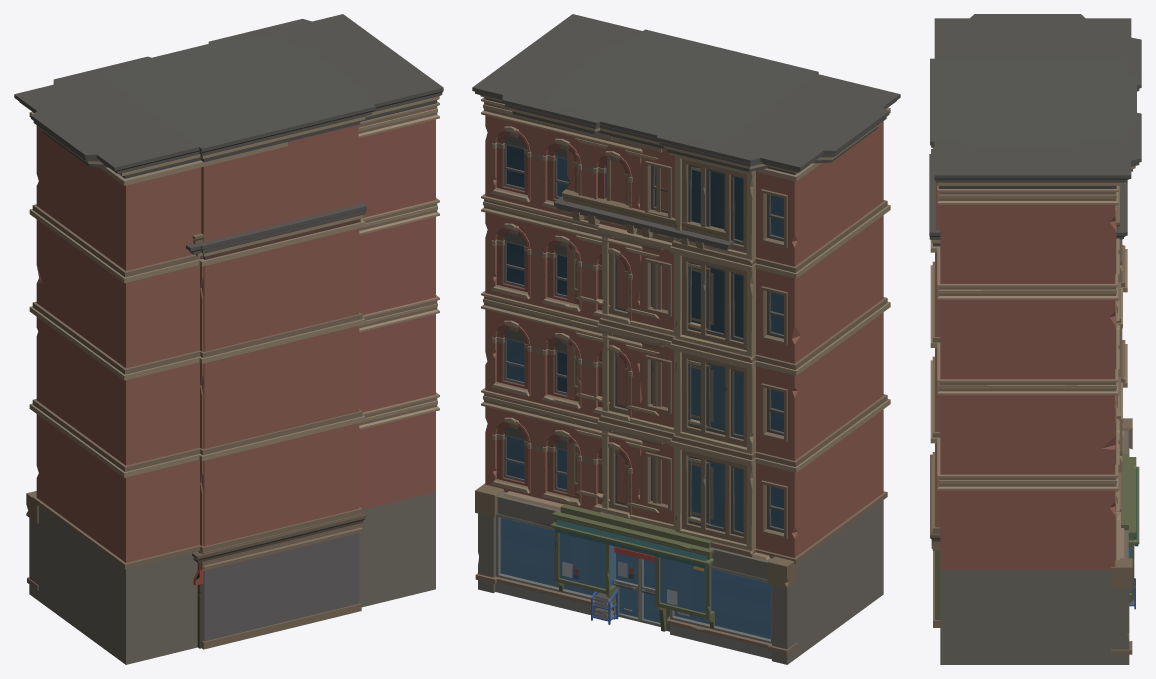
File: buildings.glb
3 views of the same model, side by side, from view 1: azimuth 30°, elevation 25°; view 2: azimuth 150°, elevation 25°; view 3: azimuth 270°, elevation 25° (orthographic). The views are drawn at different scales.
Parts seen in each view (by area): view 1: building_03, building_01, building_02, building_5, building_04; view 2: building_03, building_02, building_04, building_5, building_01; view 3: building_03, building_02, building_04, building_5, building_01.
Boxes of the visible parts, <box> form: building_03: <box>14,14,443,664</box>; building_01: <box>201,210,365,649</box>; building_02: <box>101,33,375,641</box>; building_5: <box>186,202,365,648</box>; building_04: <box>201,202,366,250</box>; building_03: <box>472,14,900,664</box>; building_02: <box>545,29,818,611</box>; building_04: <box>550,189,720,631</box>; building_5: <box>554,193,734,561</box>; building_01: <box>571,221,674,624</box>; building_03: <box>934,14,1141,664</box>; building_02: <box>930,58,1138,550</box>; building_04: <box>929,154,1139,620</box>; building_5: <box>930,149,1127,541</box>; building_01: <box>929,236,1135,627</box>.
Size of the model in its own units: 10.9 by 15.5 by 6.05.
Materials: 1 (1 with a texture image).
